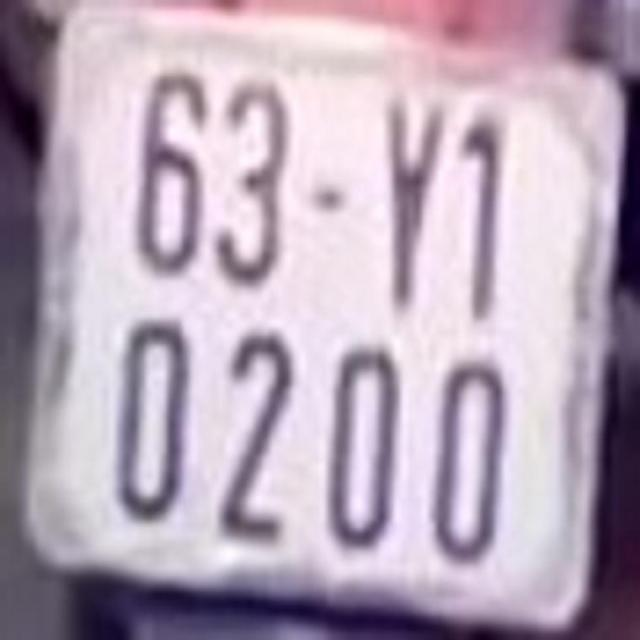0: (428, 351, 509, 570), (324, 334, 399, 548), (116, 309, 190, 516)
1: (453, 87, 522, 326)
2: (218, 322, 298, 549)
3: (216, 66, 293, 288)
6: (132, 63, 210, 280)
Y: (374, 84, 444, 310)
